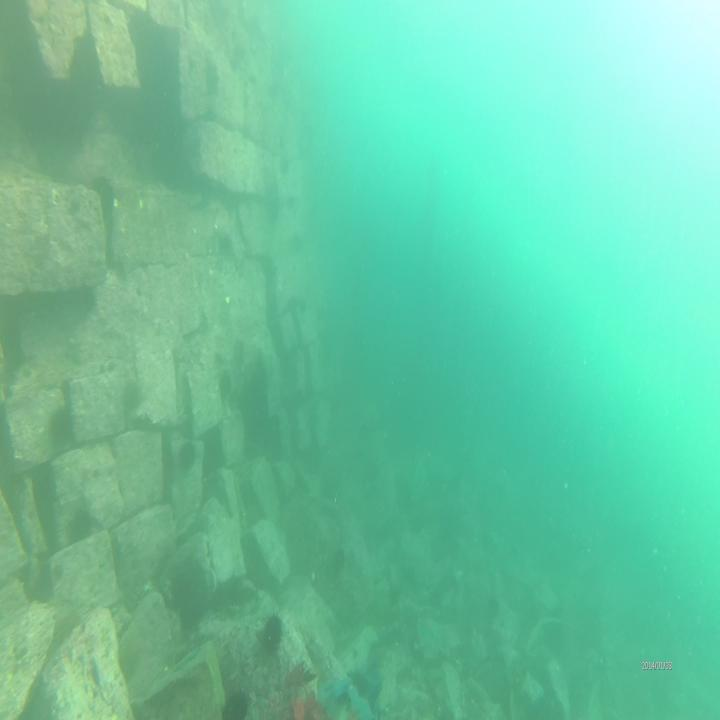echinus: (218, 681, 257, 720), (259, 608, 287, 662), (66, 500, 96, 545), (214, 224, 238, 268), (95, 178, 117, 224), (121, 380, 145, 418), (53, 405, 75, 445), (178, 437, 198, 479), (384, 580, 405, 618), (202, 59, 221, 101), (216, 367, 234, 405), (330, 540, 347, 576), (288, 230, 304, 267), (291, 383, 308, 415), (228, 56, 240, 75)
